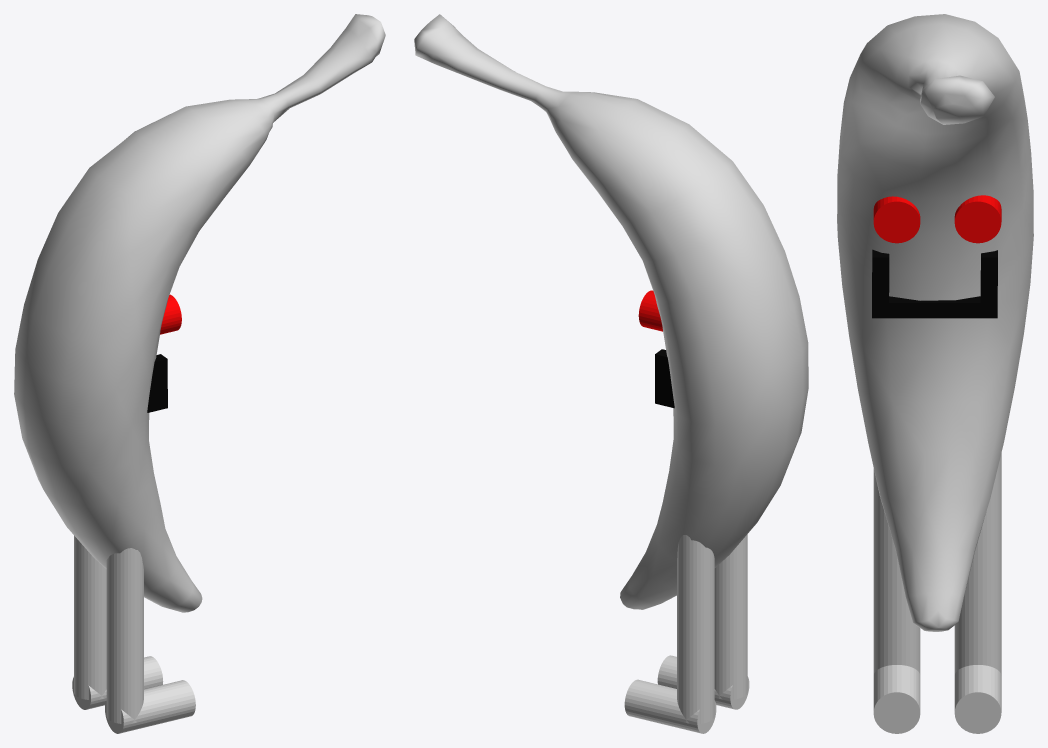
The model's file is horrorbanana.fbx.
3 views of the same model, side by side, from view 1: azimuth 30°, elevation 25°; view 2: azimuth 150°, elevation 25°; view 3: azimuth 270°, elevation 25° (orthographic). The views are drawn at different scales.
Visible parts, largest first — view 1: Body, Right Leg, Left Leg, R Foot, L Foot, Cube.001; view 2: Body, Left Leg, Right Leg, L Foot, R Foot, Cube.001, Left Eye; view 3: Body, Left Leg, Right Leg, Cube.001, R Foot, L Foot, Left Eye, Right Eye.
Part boxes in pixels (bbox=[...]): Body: bbox=[14, 14, 385, 612]; Right Leg: bbox=[106, 548, 143, 723]; Left Leg: bbox=[74, 535, 106, 699]; R Foot: bbox=[105, 680, 195, 733]; L Foot: bbox=[72, 656, 163, 709]; Cube.001: bbox=[147, 354, 167, 412]; Body: bbox=[414, 14, 808, 609]; Left Leg: bbox=[677, 535, 714, 723]; Right Leg: bbox=[714, 534, 747, 699]; L Foot: bbox=[624, 679, 716, 733]; R Foot: bbox=[657, 655, 749, 709]; Cube.001: bbox=[655, 349, 674, 408]; Left Eye: bbox=[638, 290, 662, 331]; Body: bbox=[837, 14, 1033, 631]; Left Leg: bbox=[954, 453, 1001, 675]; Right Leg: bbox=[873, 469, 920, 674]; Cube.001: bbox=[872, 249, 997, 318]; R Foot: bbox=[873, 665, 920, 733]; L Foot: bbox=[954, 665, 1001, 733]; Left Eye: bbox=[954, 195, 1001, 243]; Right Eye: bbox=[873, 196, 920, 243].
Size of the model in its own units: 157 by 264 by 60.21.
